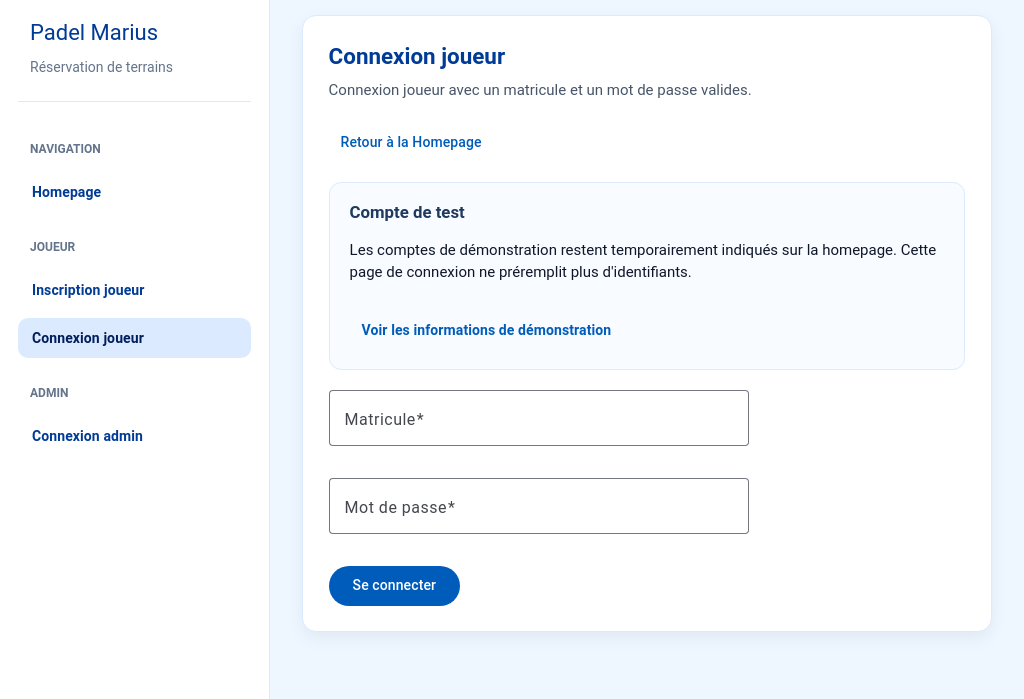
Test: Happy flows MVP Padel Marius › consulte puis règle une dette ouverte
Check: the heading "Connexion joueur" is shown, box [329,43,505,69]
Type "G1001" into the field named "matricule" at (539, 418), box [345,406,733,430]
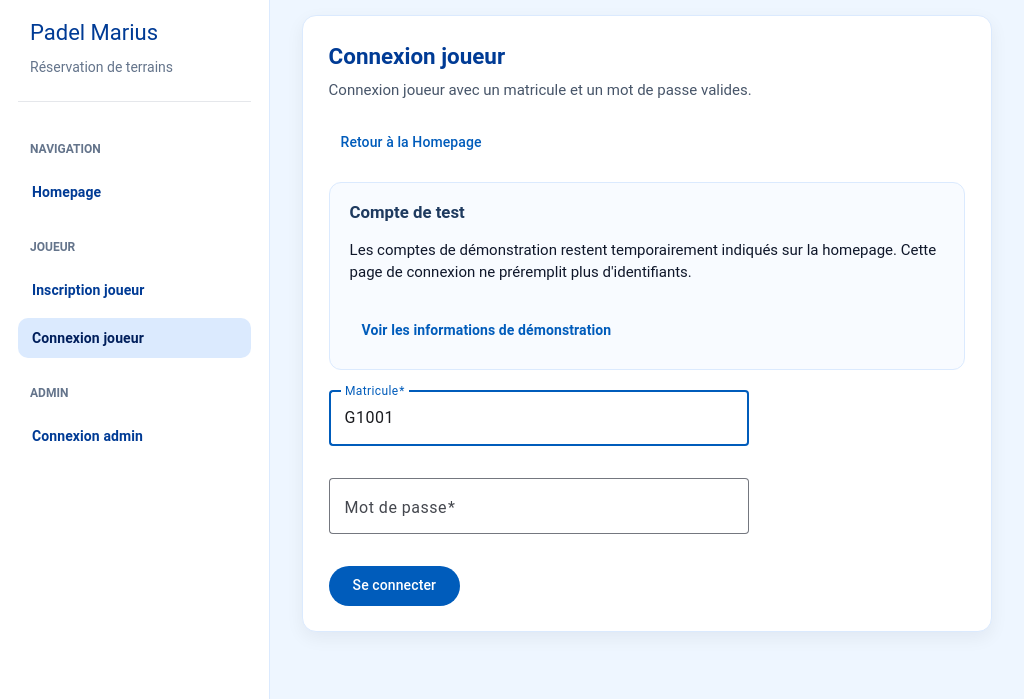
Type "password" into the password field named "motDePasse" at (539, 506), box [345,494,733,518]
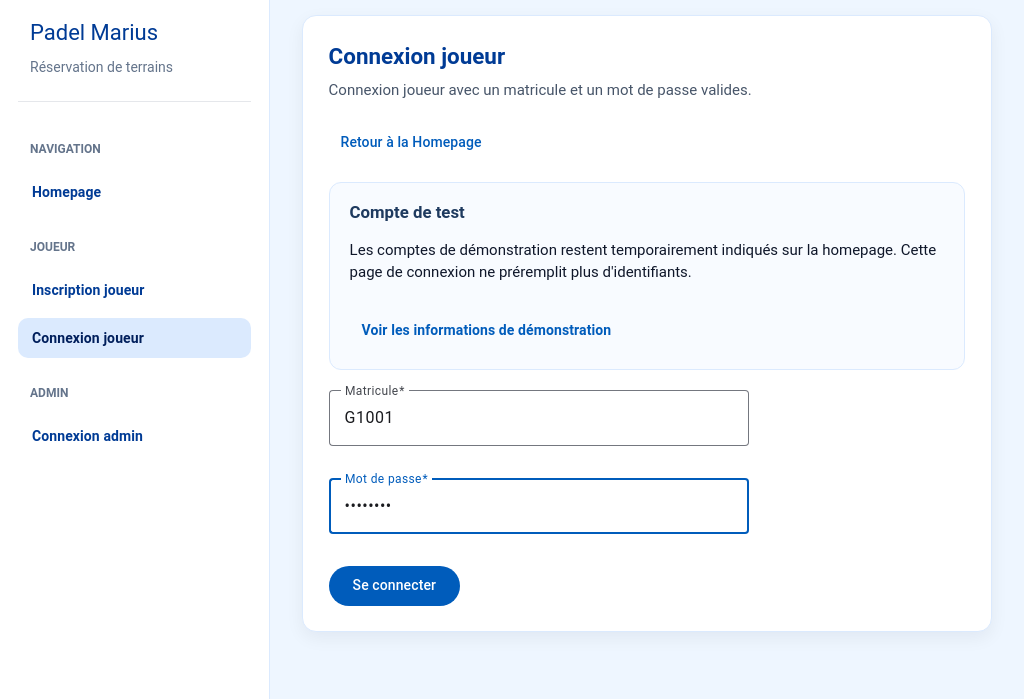
Click the button "Se connecter" at (395, 586), box [329,566,460,606]
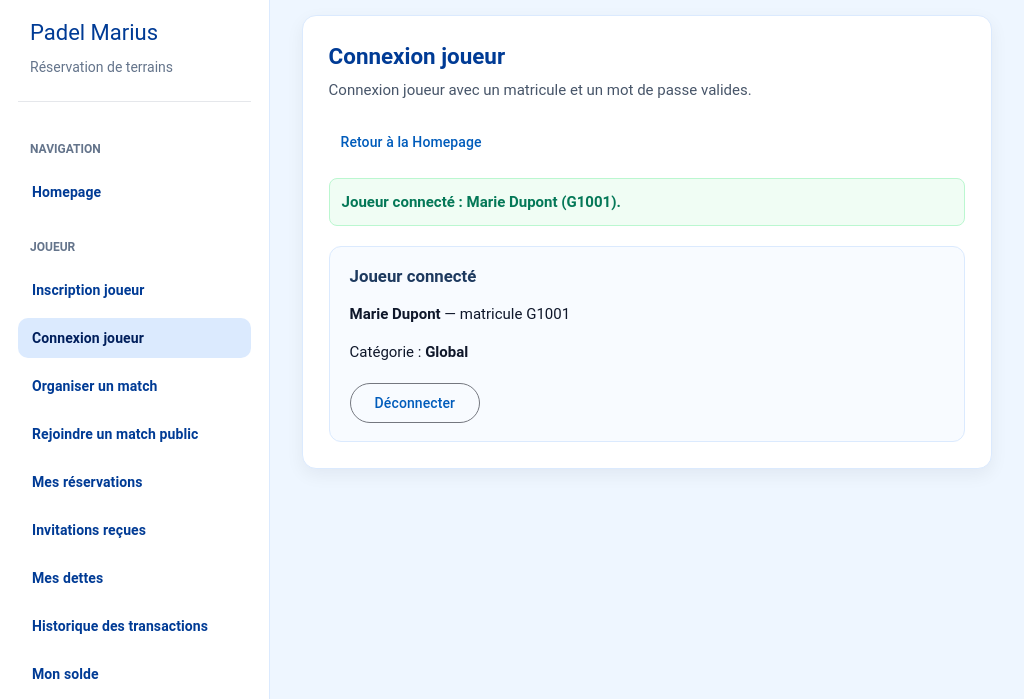
Check: the text "Joueur connecté : Marie Dupont (G1001)." is shown, box [329,178,965,226]
Check: the link "Mon solde" is shown, box [18,654,251,694]
Open "/joueur/mes-dettes"
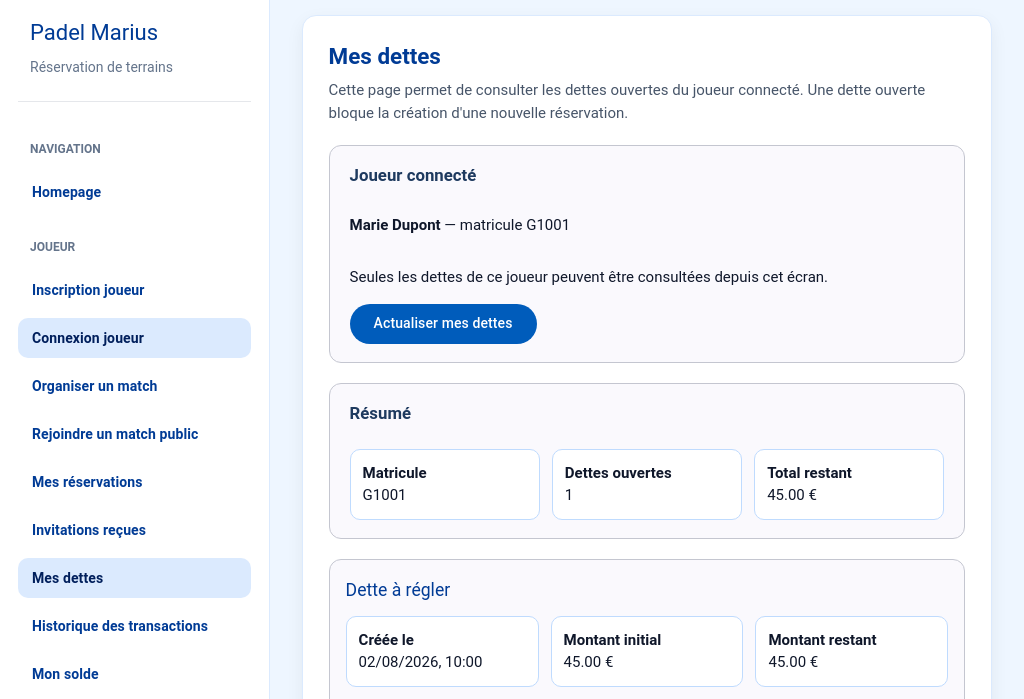
Check: the heading "Mes dettes" is shown, box [329,43,441,69]
Check: the text "45.00 €" is shown, box [767,486,817,504]
Scroll
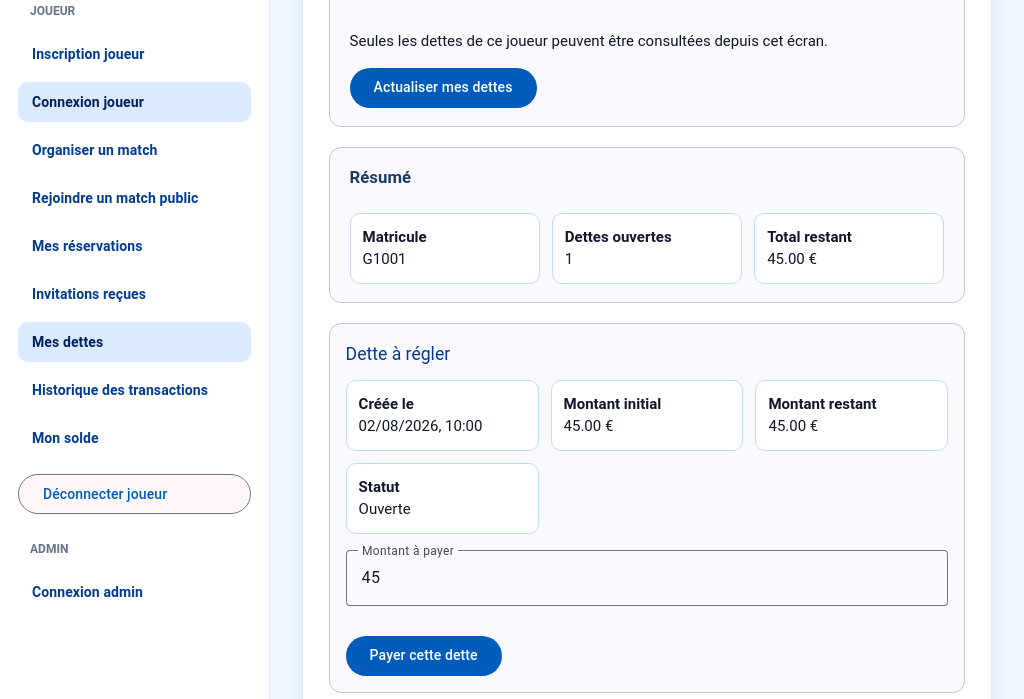
Click the button "Payer cette dette" at (424, 656), box [346,636,502,676]
(page scrolled)
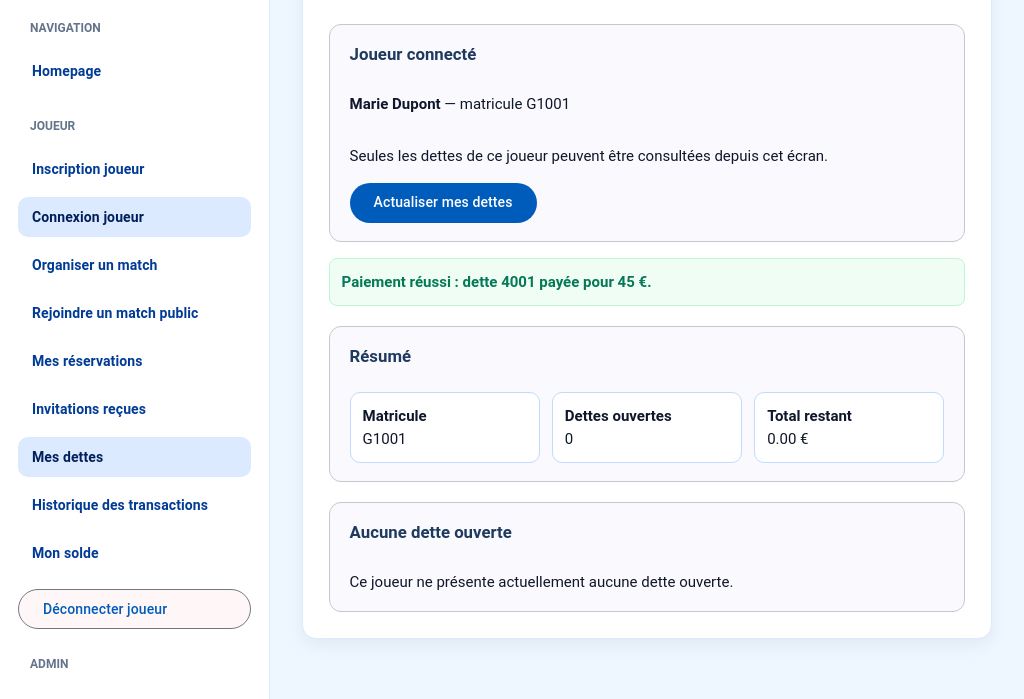
Check: the text "Paiement réussi : dette 4001 payée pour 45 €." is shown, box [329,258,965,306]
Check: the heading "Aucune dette ouverte" is shown, box [350,522,512,542]
